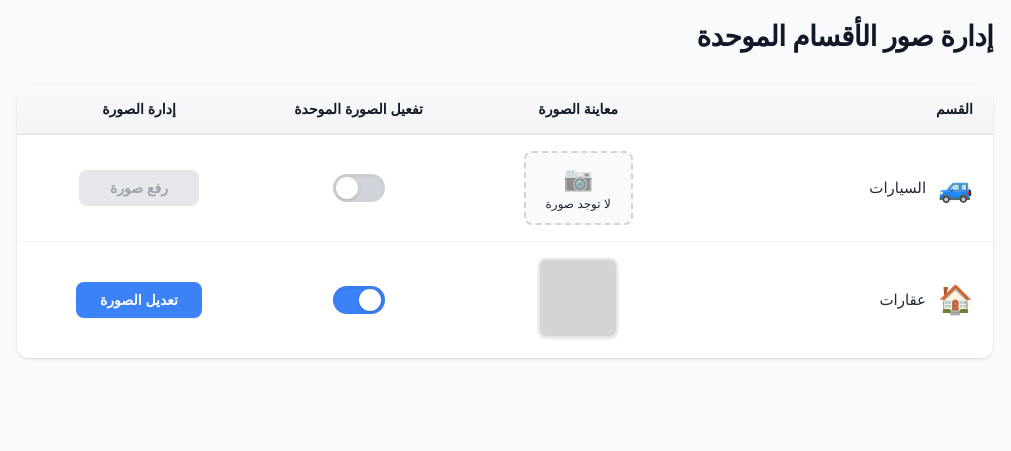
Test: UnifiedImagesPage › Toggle Functionality › displays success message after successful toggle
Expected: the text "السيارات" is shown, left=869, top=179, right=926, bottom=197
Click the switch named "تفعيل الصورة الموحدة لقسم السيارات".
click(359, 188)  # box left=333, top=174, right=385, bottom=202
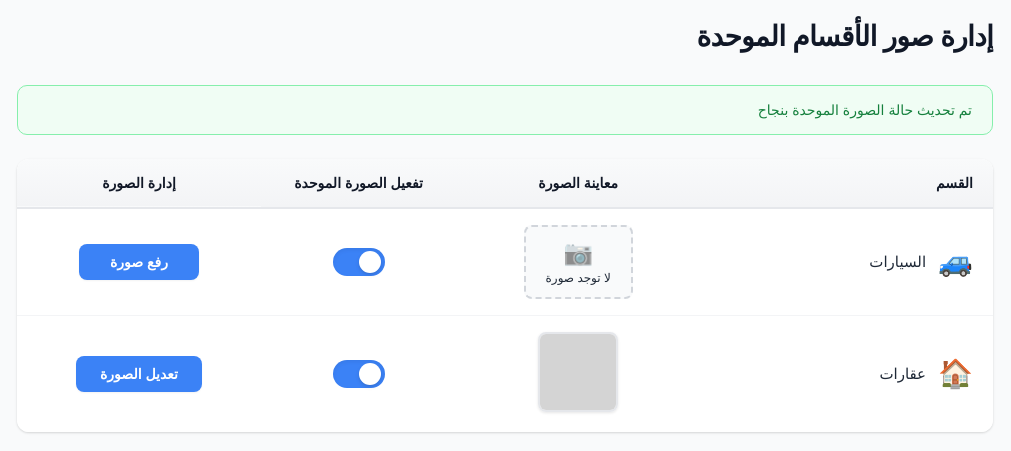
Expected: the text "تم تحديث حالة الصورة الموحدة بنجاح" is shown, left=758, top=102, right=972, bottom=118
